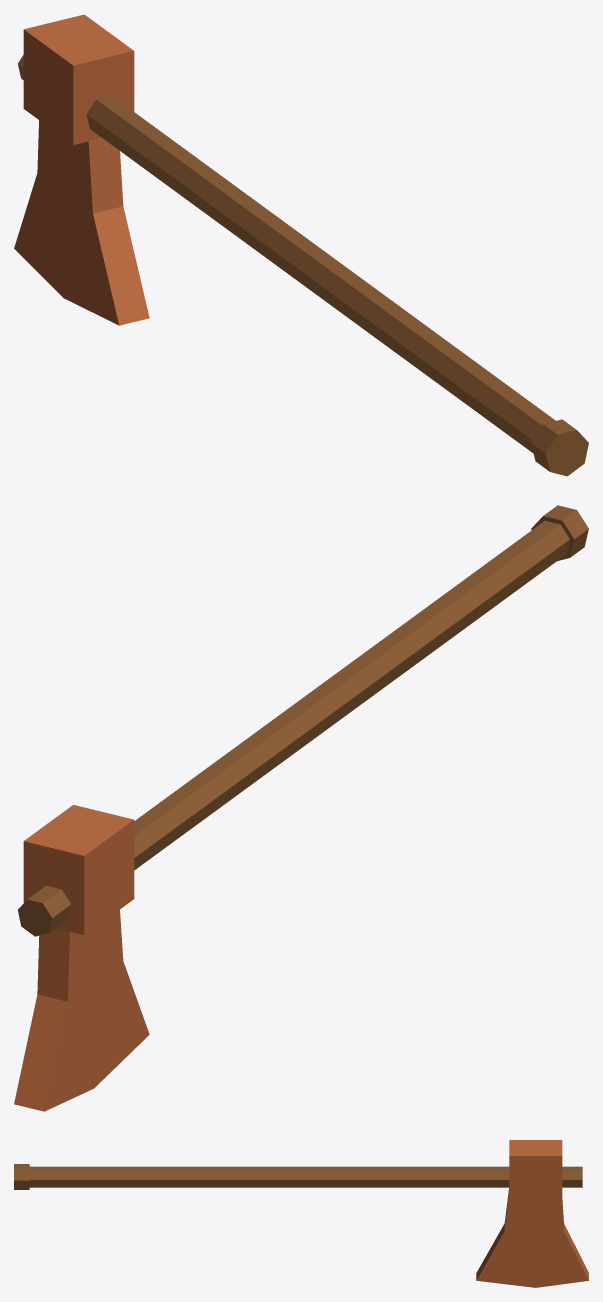
File: Tool_Axe_Copper.fbx
The picture shows the model from 3 angles, top to bottom: view 1: azimuth 30°, elevation 25°; view 2: azimuth 150°, elevation 25°; view 3: azimuth 270°, elevation 25°; orthographic projection. The views are drawn at different scales.
Parts seen in each view (by area): view 1: Tool_Axe_Copper; view 2: Tool_Axe_Copper; view 3: Tool_Axe_Copper.
Part boxes in pixels (<box>): Tool_Axe_Copper: <box>14,14,588,476</box>; Tool_Axe_Copper: <box>14,505,588,1111</box>; Tool_Axe_Copper: <box>14,1140,588,1287</box>.
Size of the model in its own units: 2.4 by 9.6 by 36.8.
